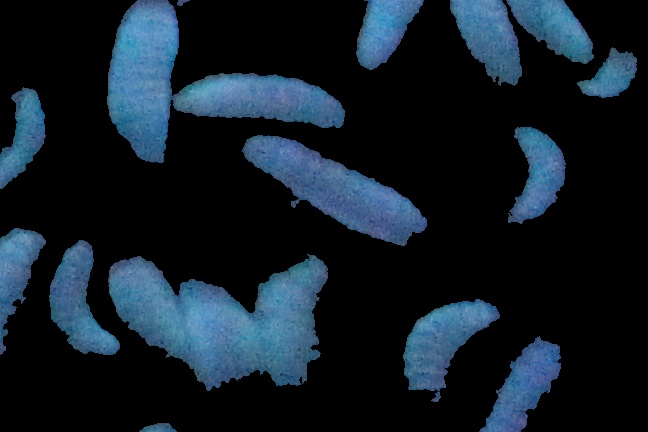larvae: (226, 124, 440, 261), (100, 1, 191, 186), (169, 56, 356, 144), (43, 224, 131, 381), (391, 272, 498, 399), (245, 250, 338, 393), (491, 114, 576, 244), (440, 1, 538, 108), (109, 251, 193, 365), (340, 1, 432, 81), (1, 75, 53, 195)
